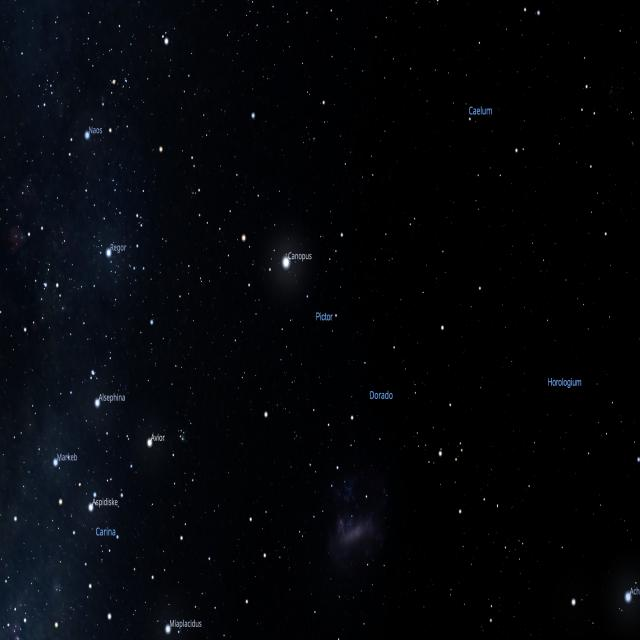Pictor: (260, 230, 347, 423)
